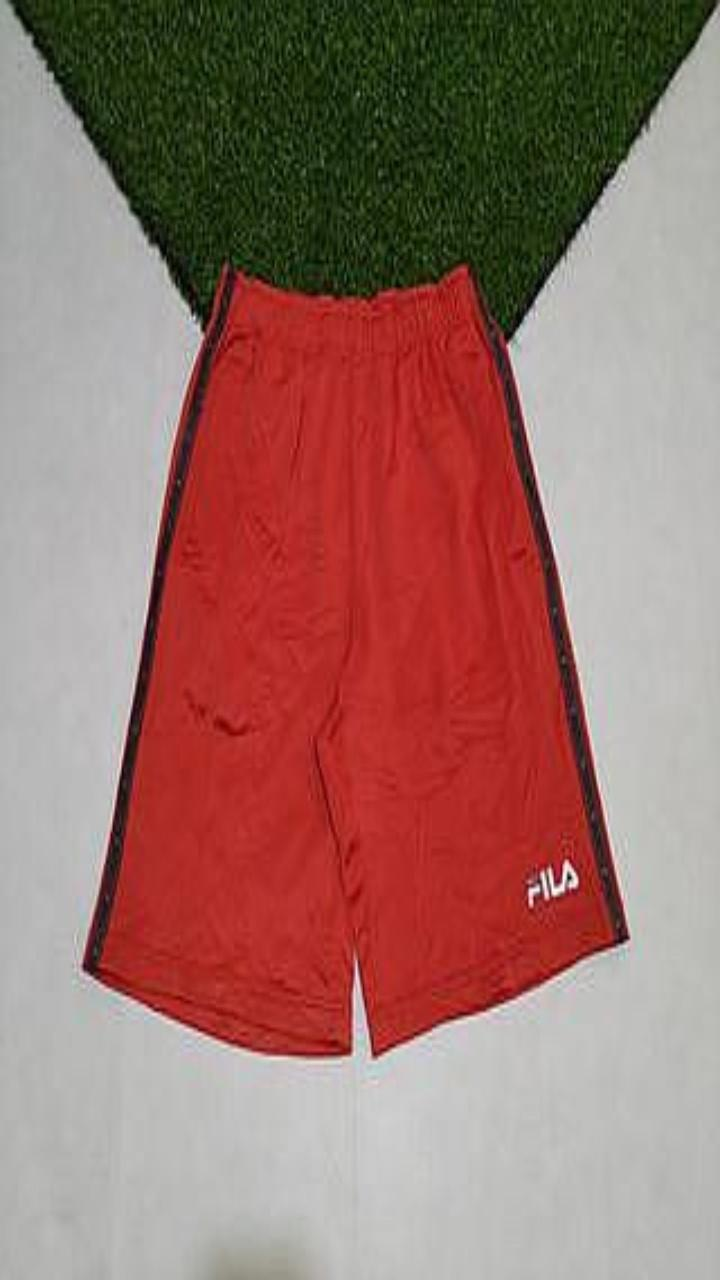Shorts: (82, 261, 628, 1054)
